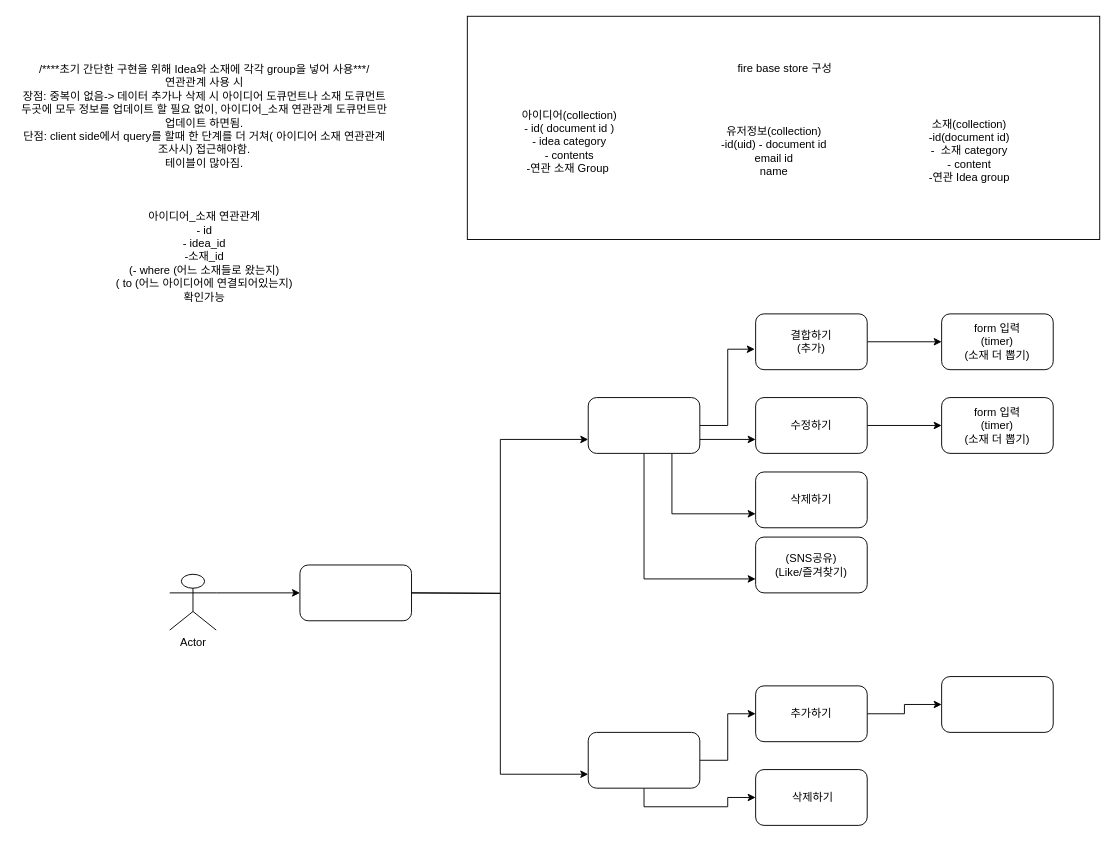
The diagram is 1116 pixels wide and 842 high, and some of its shapes have lost their labels. Each missing label, with the centre of its shape:
"form입력" goes at point 997,704.
"Login" goes at point 355,592.
"아이디어 (게시판" goes at point 643,425.
"아이디어 소재관리" goes at point 643,759.
